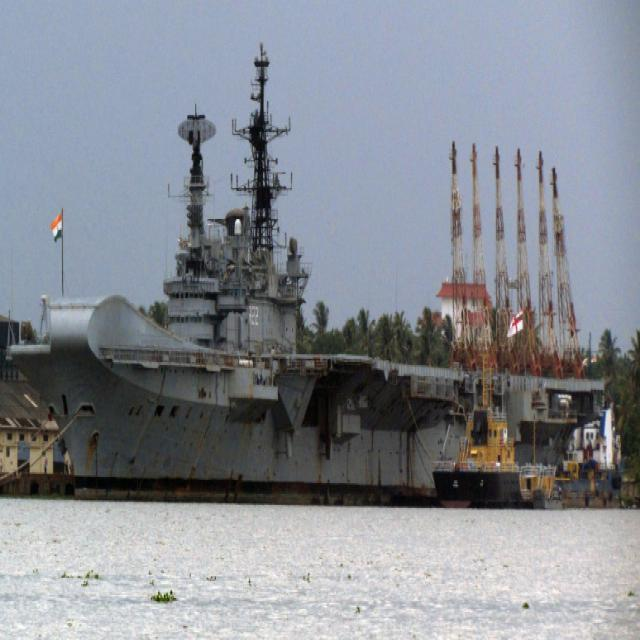Portanaves: (5, 41, 616, 503)
